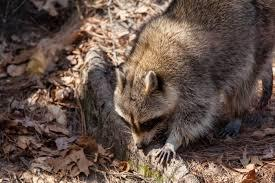raccoon: (87, 0, 275, 182)
